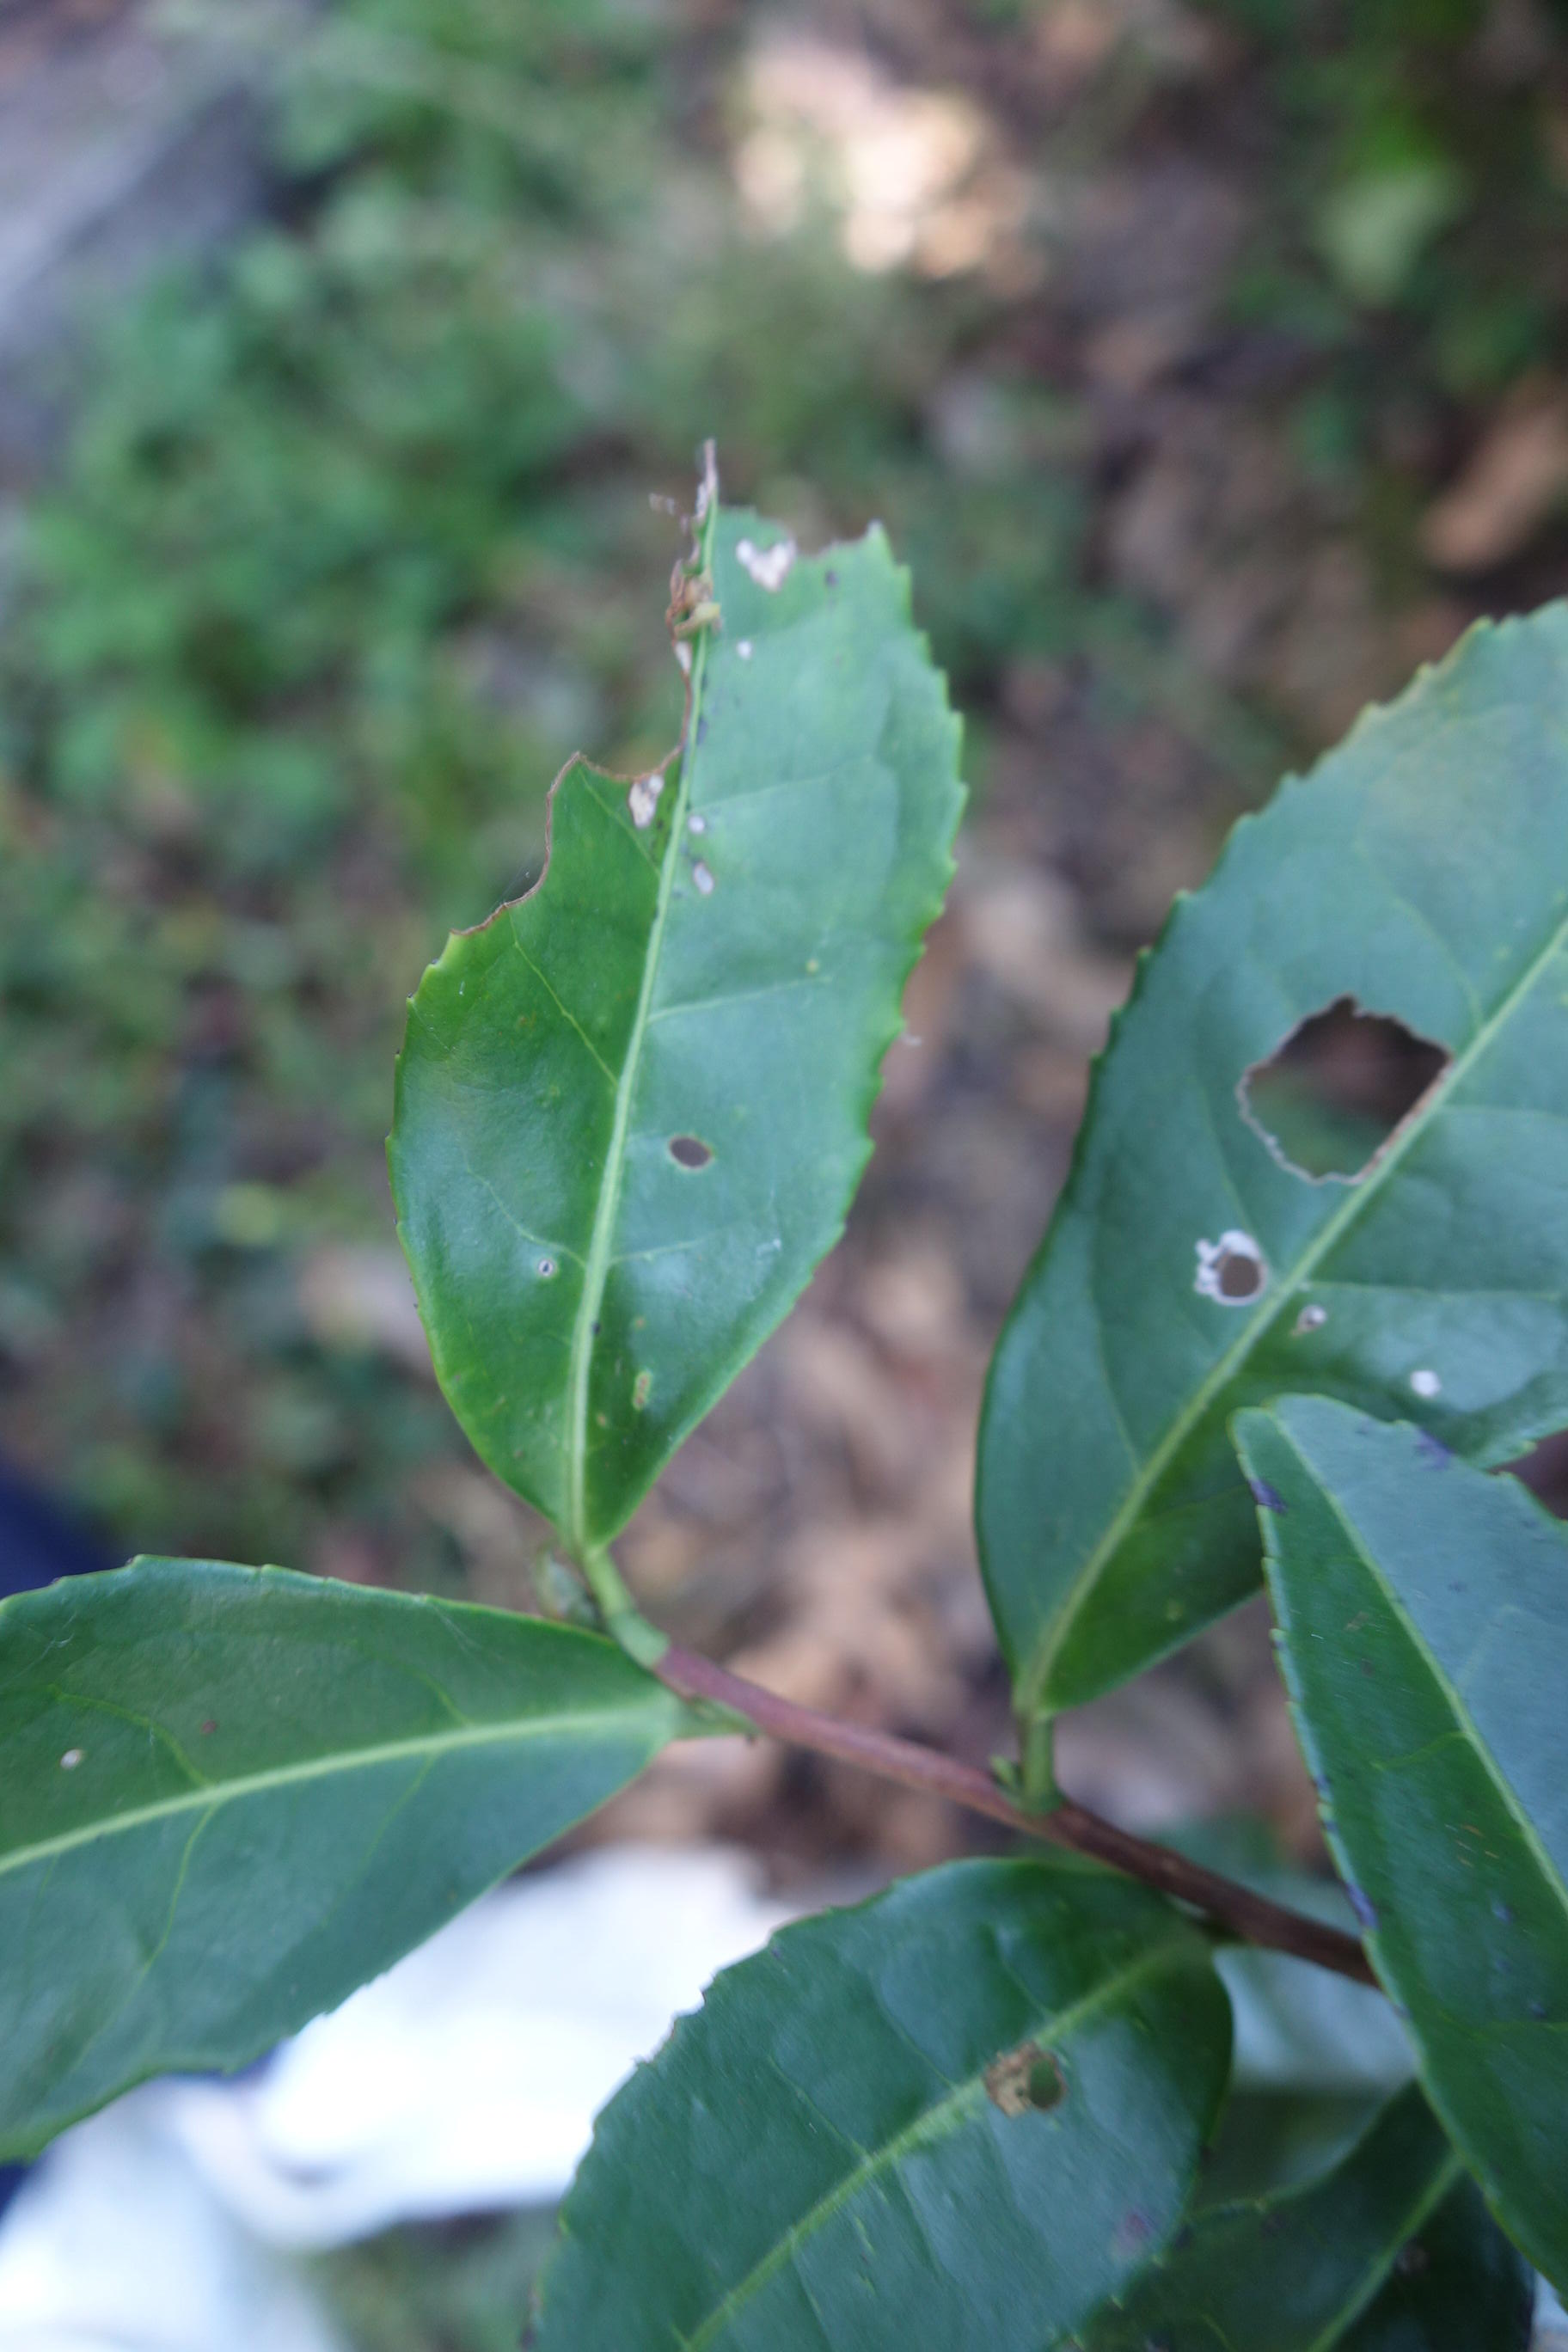chihuo_high: (383, 437, 968, 1559), (980, 591, 1564, 1713)
